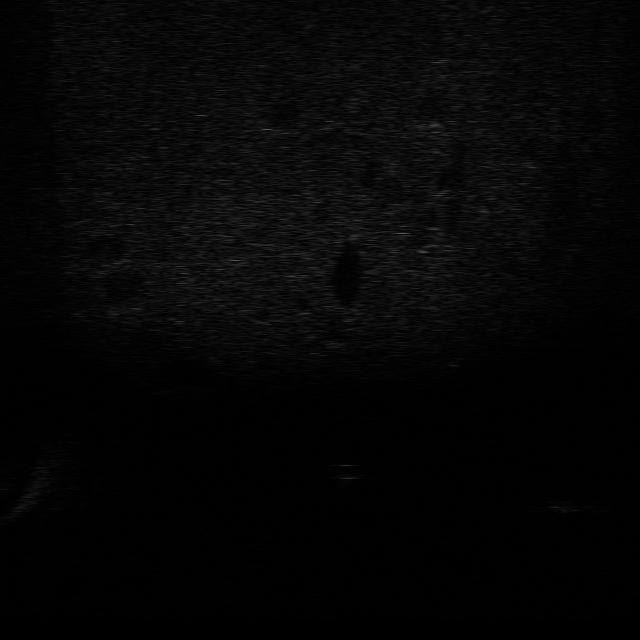ball: (322, 457, 366, 488)
square cage: (530, 490, 601, 520)
tyre: (431, 342, 475, 369)
